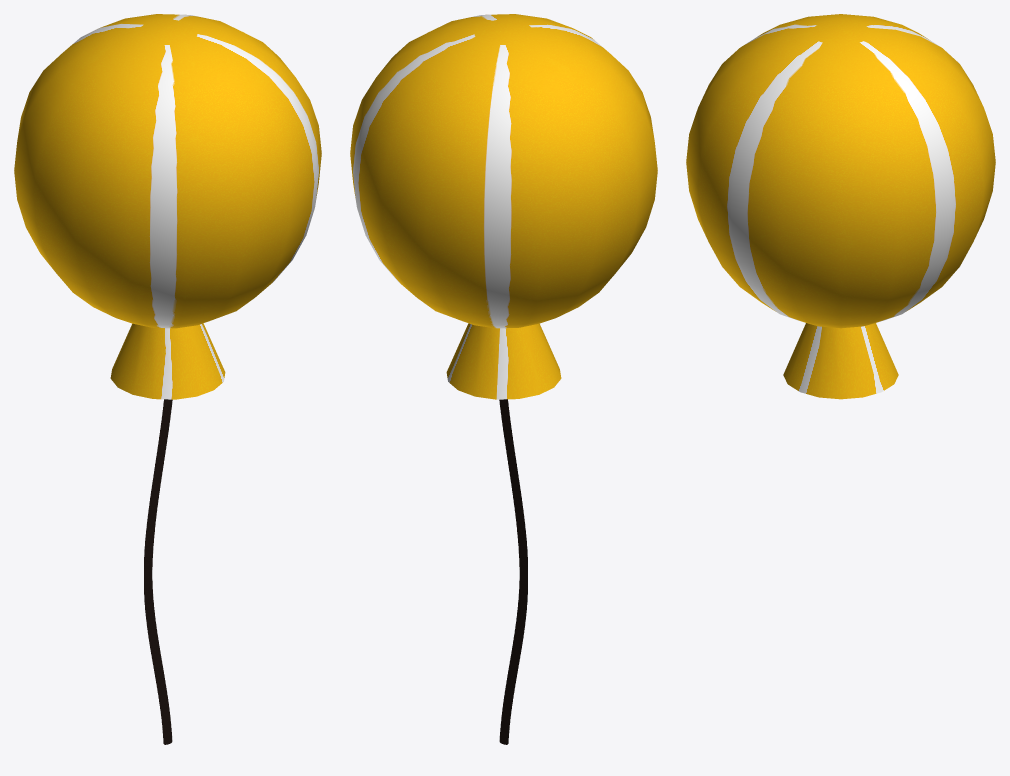
Rendered from Balloon.fbx.
3 renders of one model, left to right at view 1: azimuth 30°, elevation 25°; view 2: azimuth 150°, elevation 25°; view 3: azimuth 270°, elevation 25°, orthographic.
Visible parts, largest first — view 1: Sphere; view 2: Sphere; view 3: Sphere.
Boxes of the visible parts, left/top/right/bottom form: Sphere: left=14, top=14, right=321, bottom=744; Sphere: left=350, top=14, right=657, bottom=744; Sphere: left=686, top=14, right=995, bottom=399.
Size of the model in its own units: 0.8013 by 2.04 by 0.8013.
